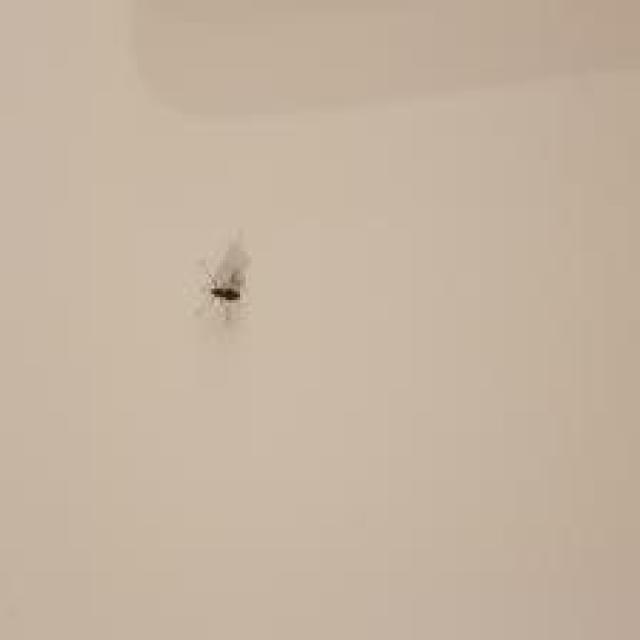Aedes albopictus: (193, 226, 253, 323)
